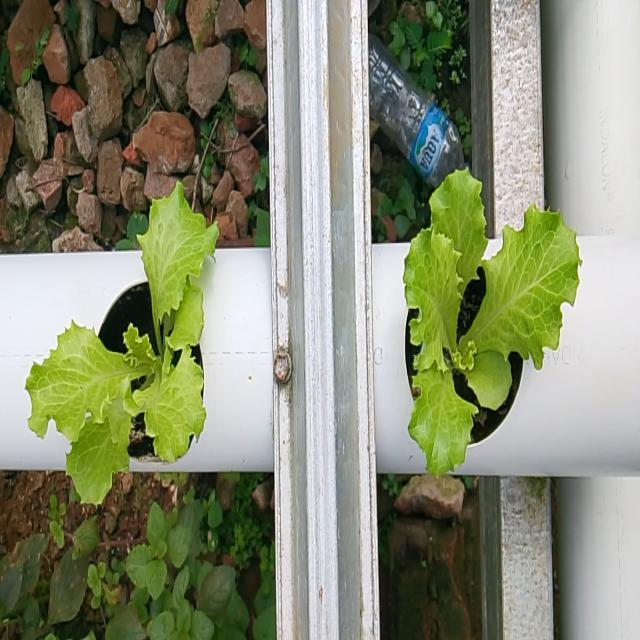Baby: (22, 182, 217, 505), (402, 168, 581, 479)
